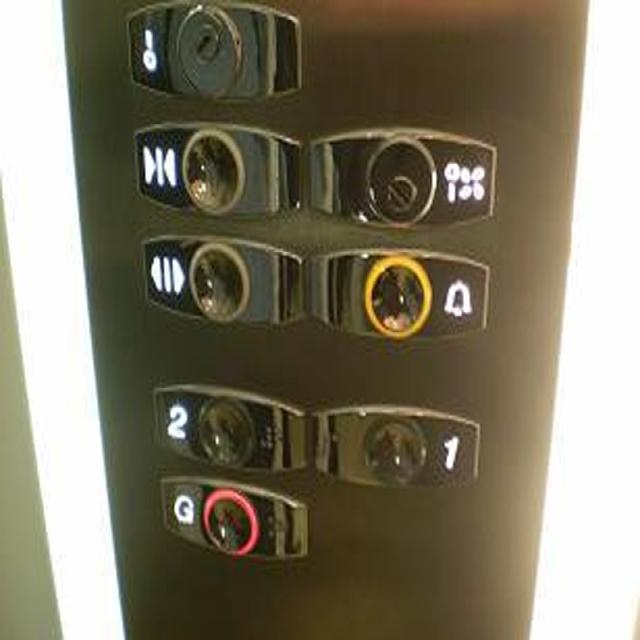1: (308, 399, 482, 496)
2: (147, 377, 308, 479)
G: (155, 471, 311, 564)
alarm: (308, 241, 494, 348)
close: (127, 117, 305, 224)
fan: (307, 123, 499, 232)
key: (121, 0, 305, 103)
open: (136, 230, 305, 334)
